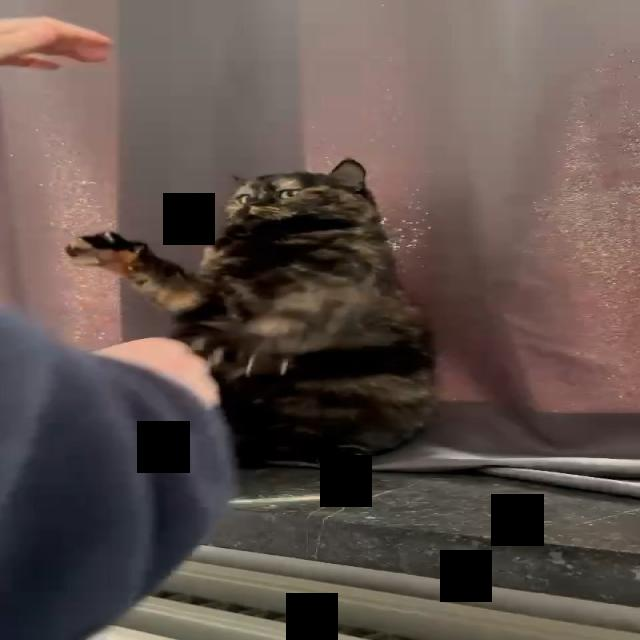authorized: (64, 157, 439, 469)
